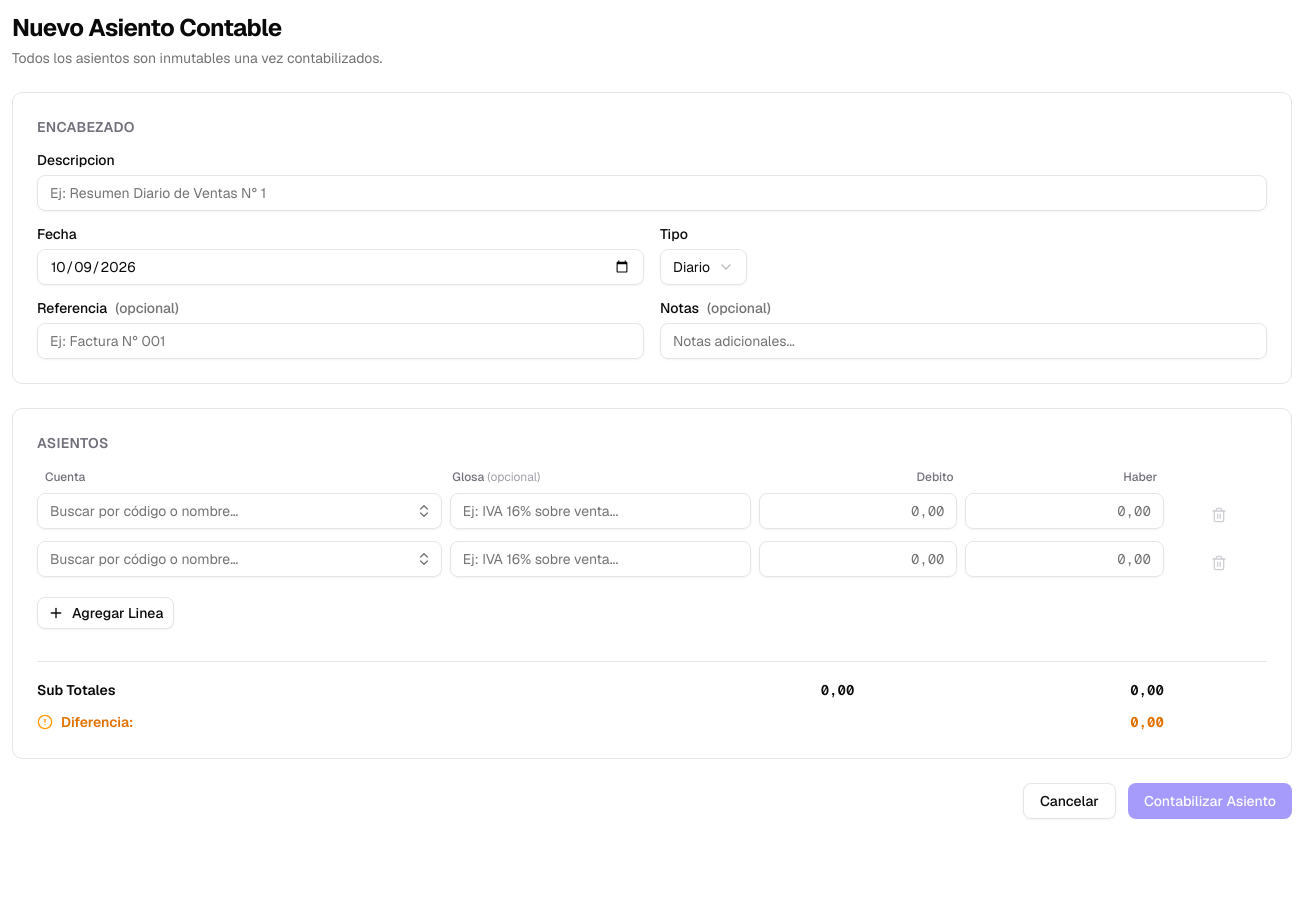
Test: JournalEntryForm — selector de cuenta buscable (SPEC-012 CA-16) › (a) el error es por fila: con la fila 1 elegida, solo la fila 2 muestra «Selecciona una cuenta»
The width and height of the screenshot is (1304, 912).
Type "Pago a proveedor" into the field labelled "Descripcion".
click(652, 193); type("Pago a proveedor")  # box [37,175,1267,211]
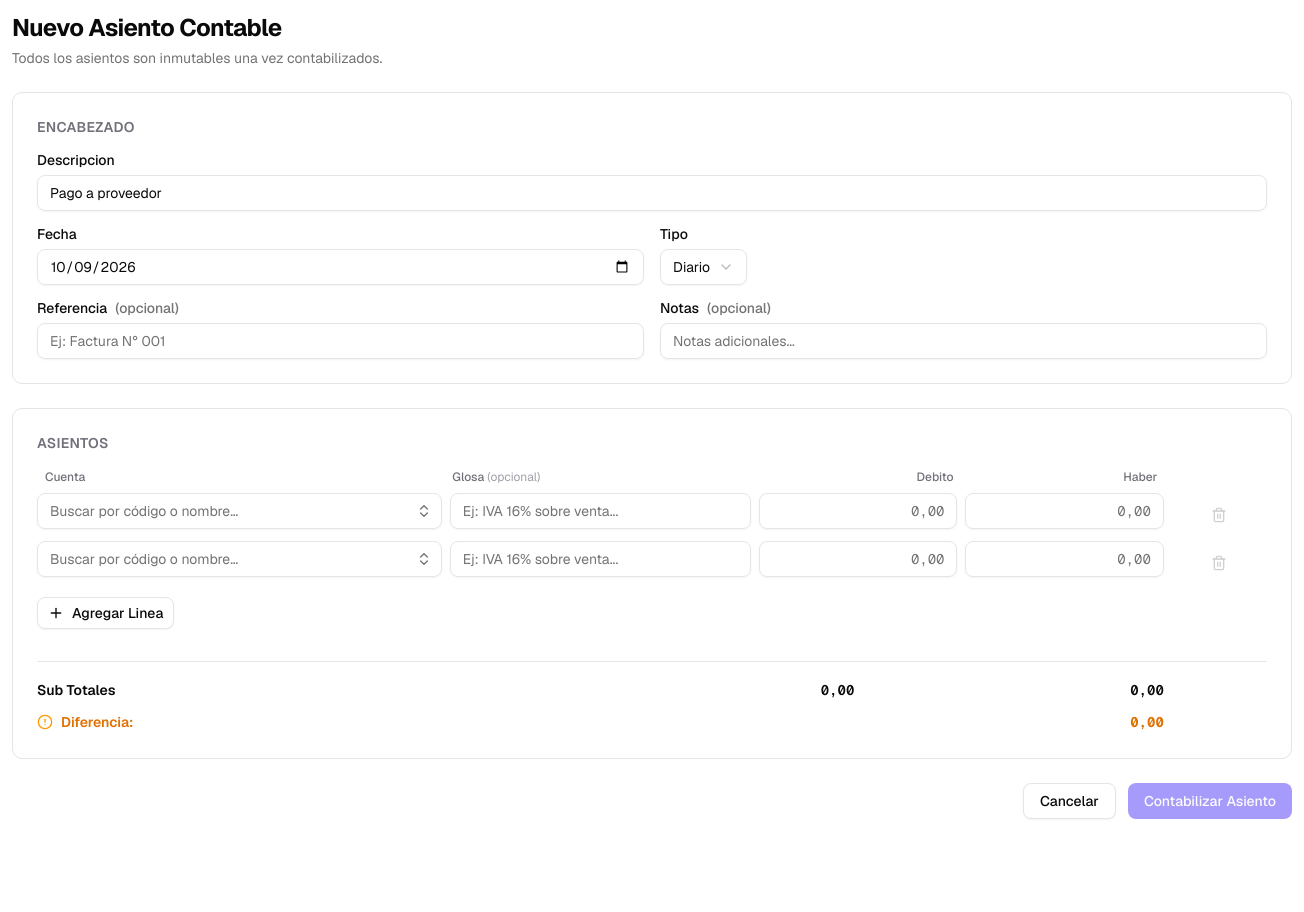
Type "100,10" into the 1st field with placeholder "0,00".
click(858, 511); type("100,10")  # box [759,493,958,529]
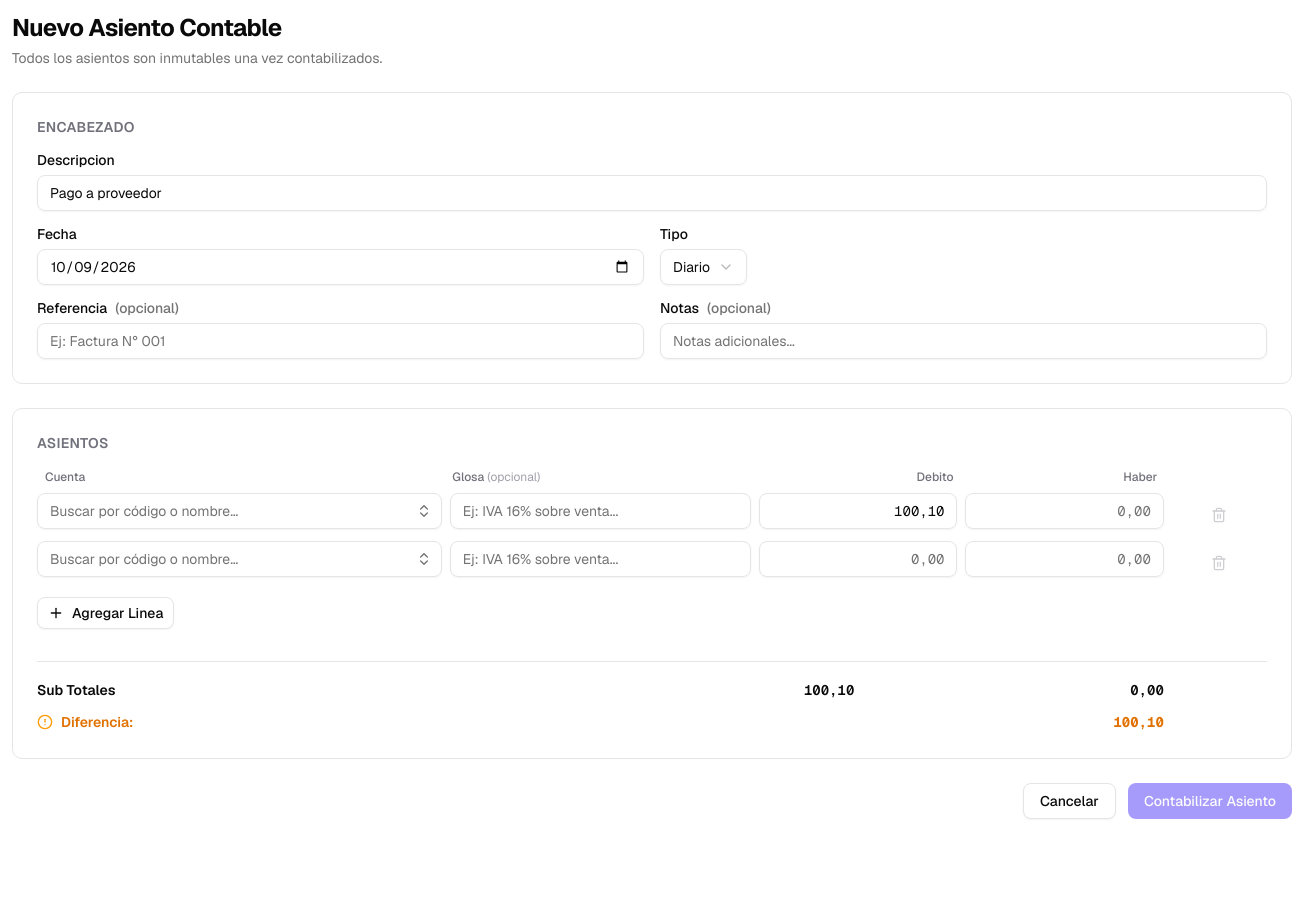
Type "100,10" into the 3rd field with placeholder "0,00".
click(1065, 559); type("100,10")  # box [966,541,1164,577]
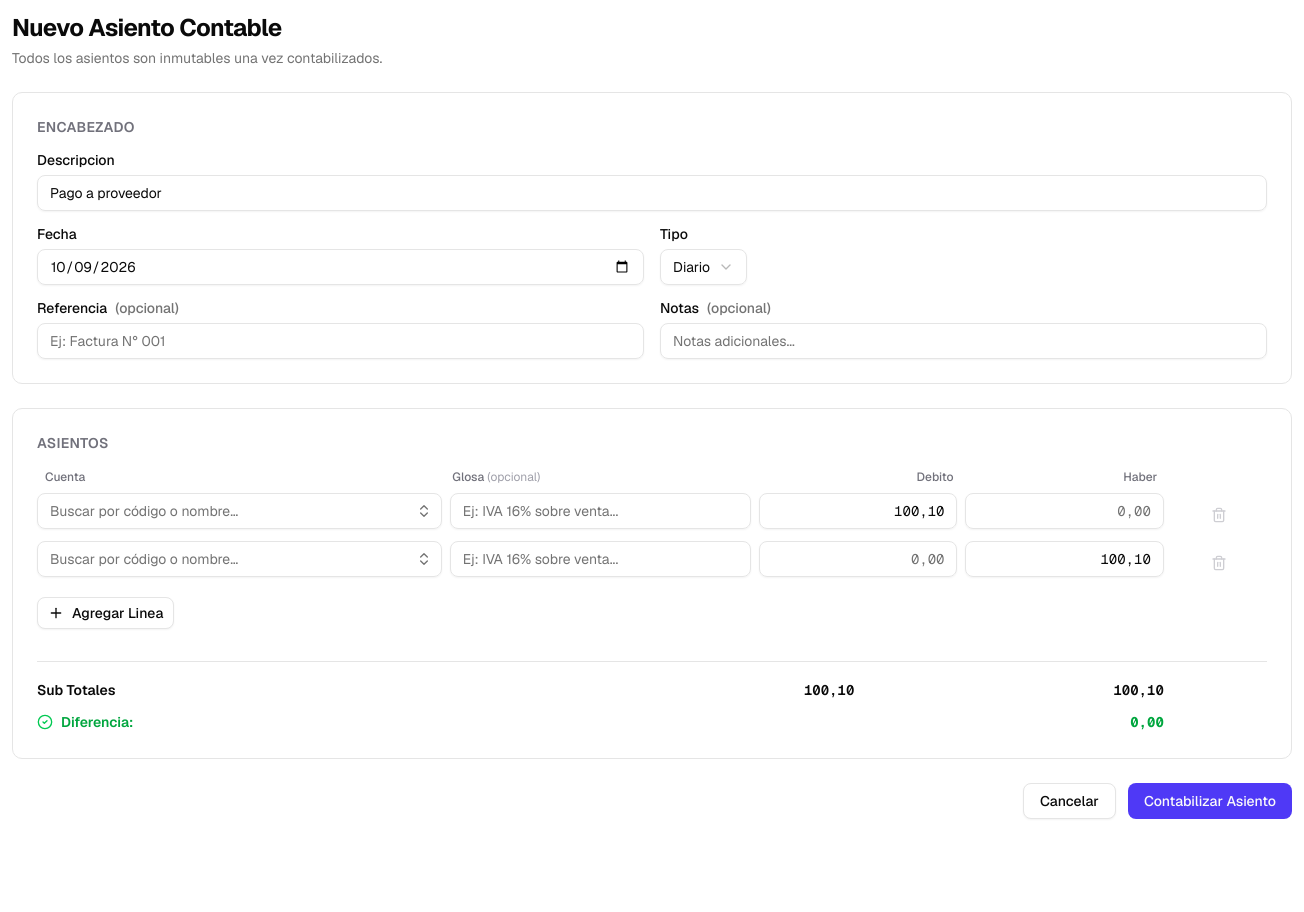
Type "110101001" into the 1st dropdown with placeholder "Buscar por código o nombre…".
click(239, 511); type("110101001")  # box [37,493,442,529]
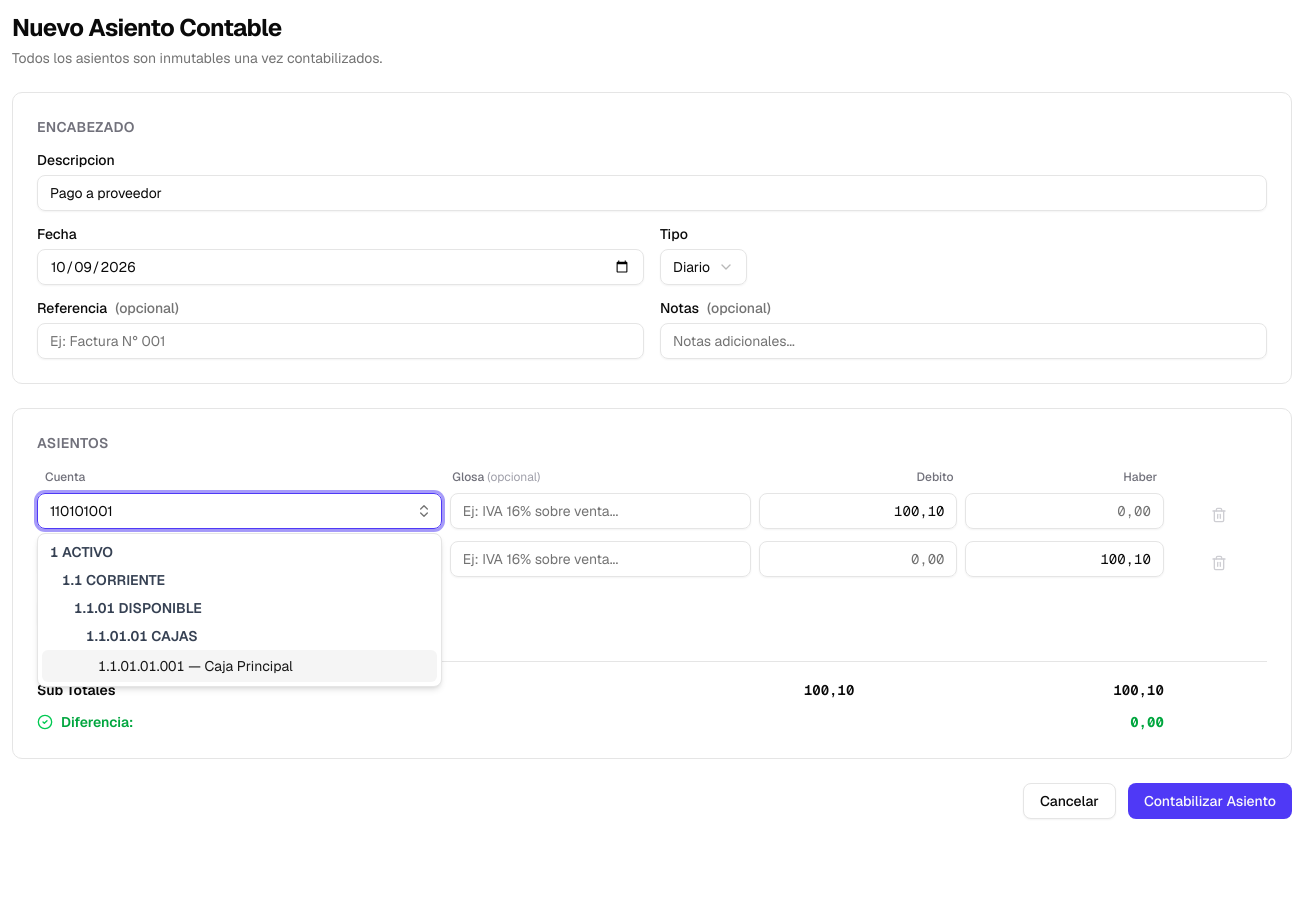
Press Enter in the dropdown named "Cuenta, línea 1", box [37,493,442,529]
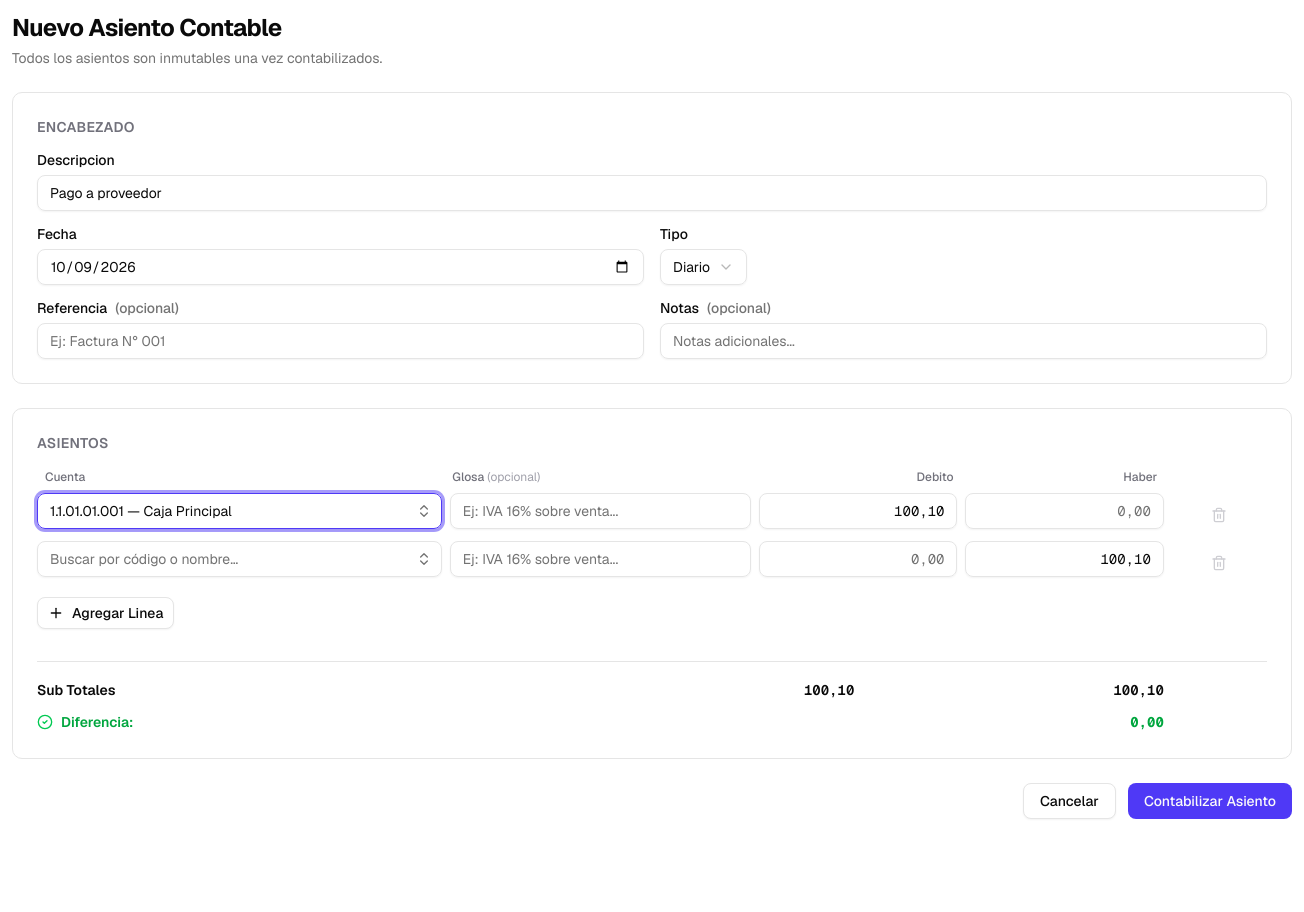
Click the button "Contabilizar Asiento".
click(1210, 801)  # box [1128,783,1292,819]
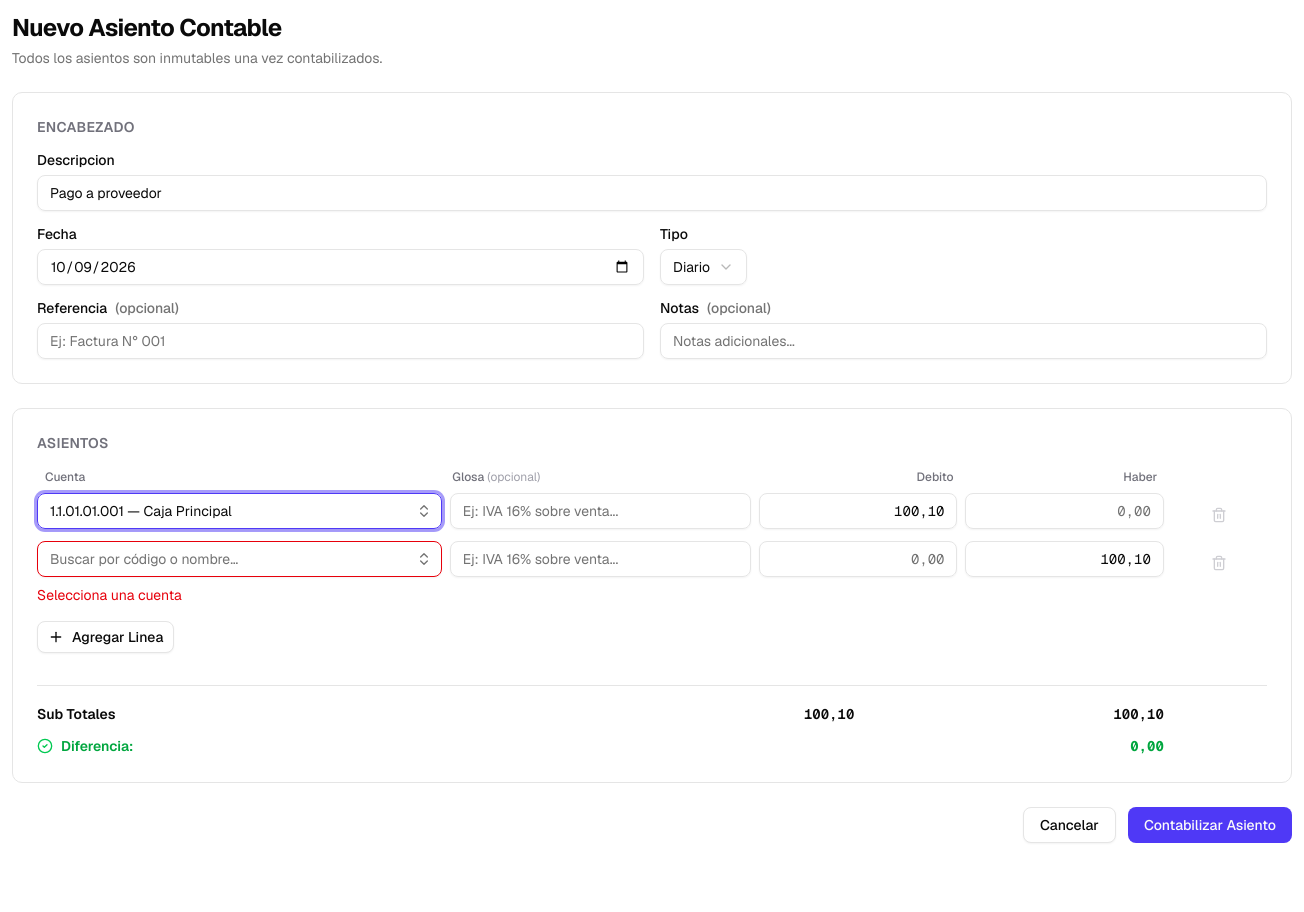
Expected: the text "Selecciona una cuenta" is shown once, [37,586,182,604]
